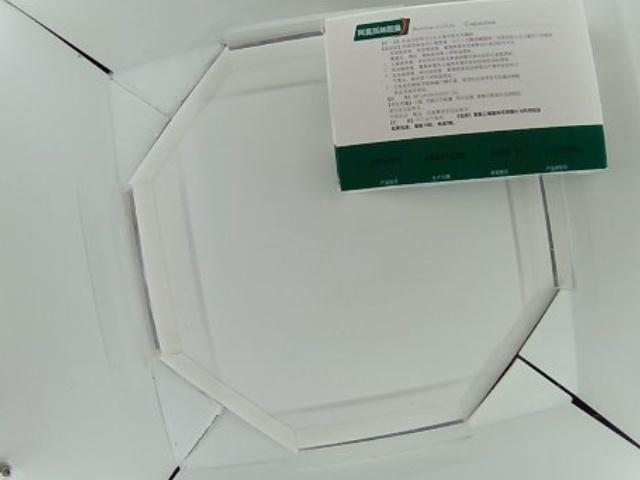Medicine: (322, 1, 609, 194)
